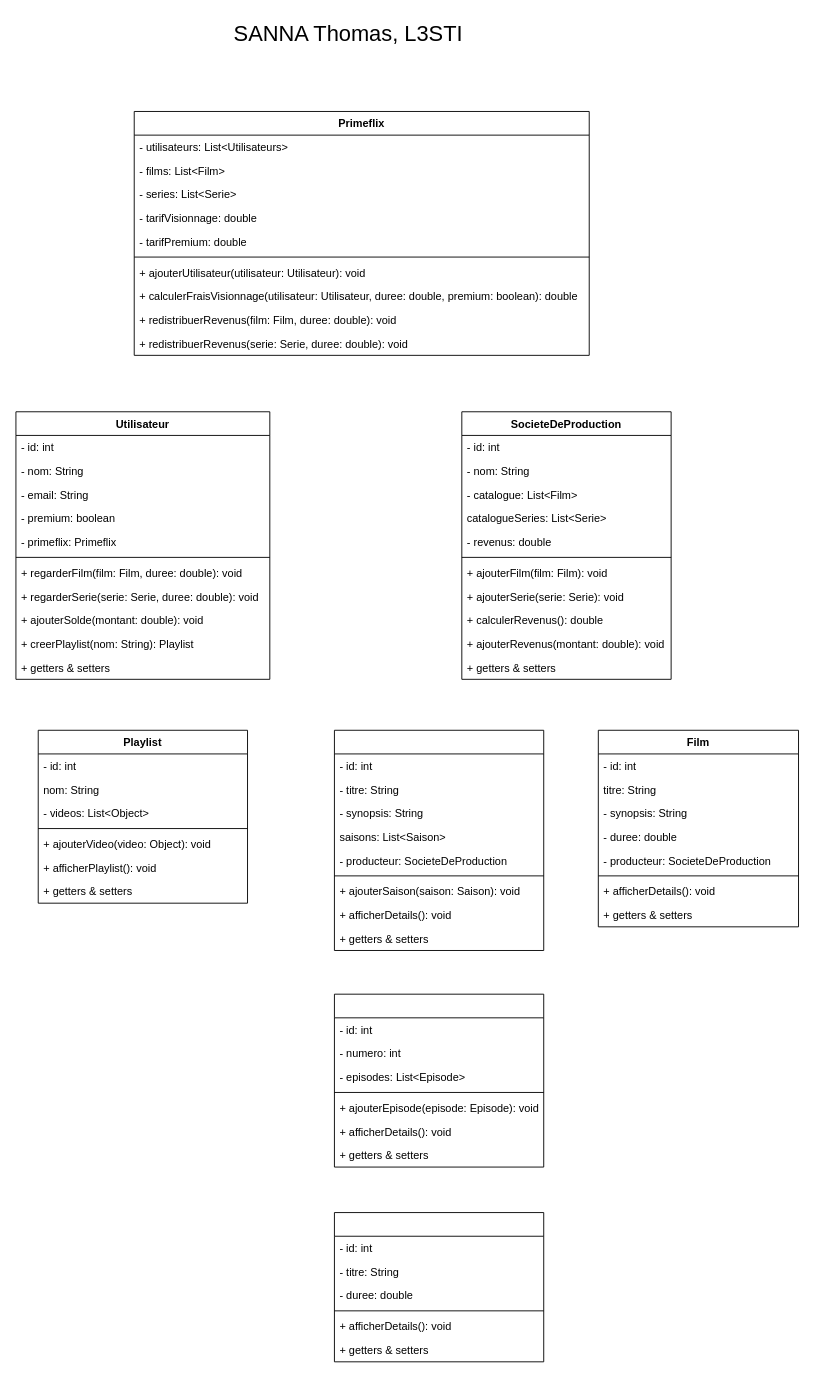
Some shapes in this 814 by 1380 pixel diagram are drawn without their labels. Here are the shapes that lost their labels. From the top down, the box of each, then its label:
(334, 729, 544, 950): Serie
(334, 993, 544, 1167): Saison
(334, 1212, 544, 1362): Episode
